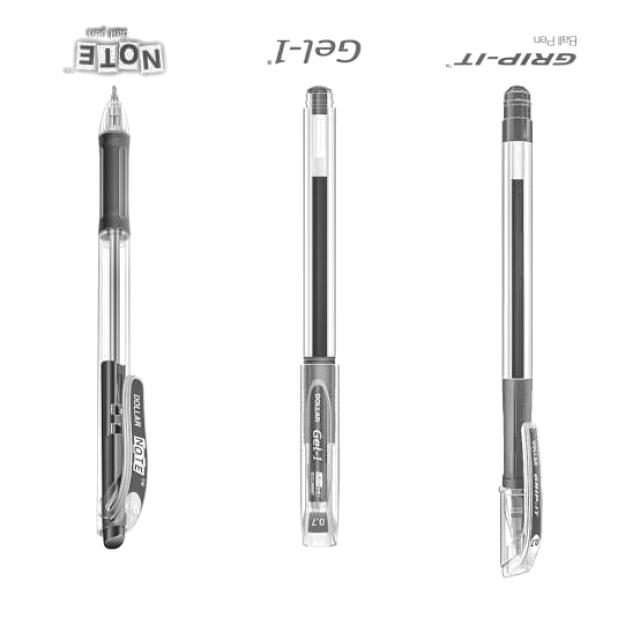Pen: (90, 83, 150, 551), (494, 81, 544, 581), (297, 80, 344, 550)
